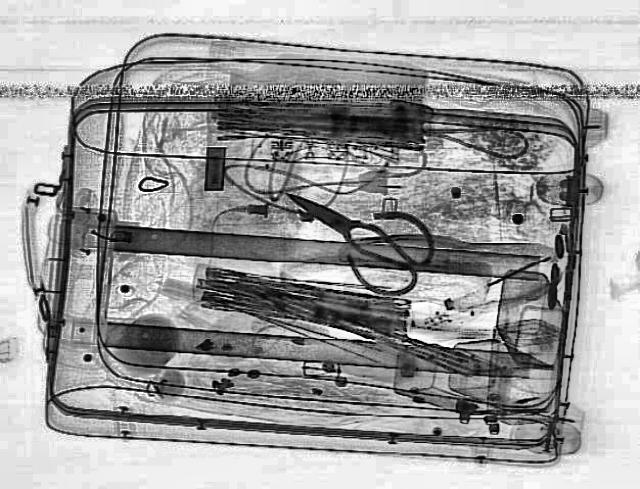Scissors: (250, 162, 462, 304)
